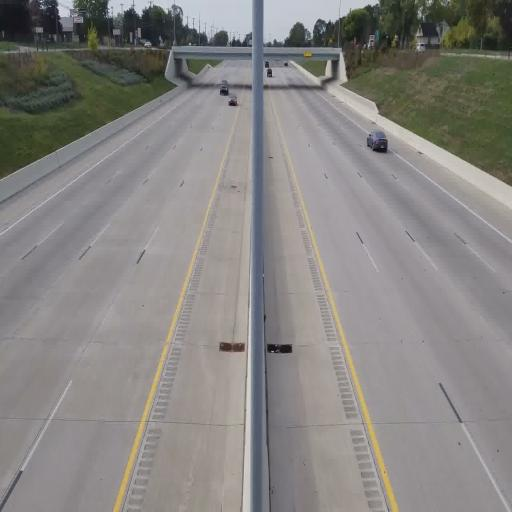Car: (367, 129, 388, 152), (220, 80, 229, 96), (229, 93, 237, 106)
